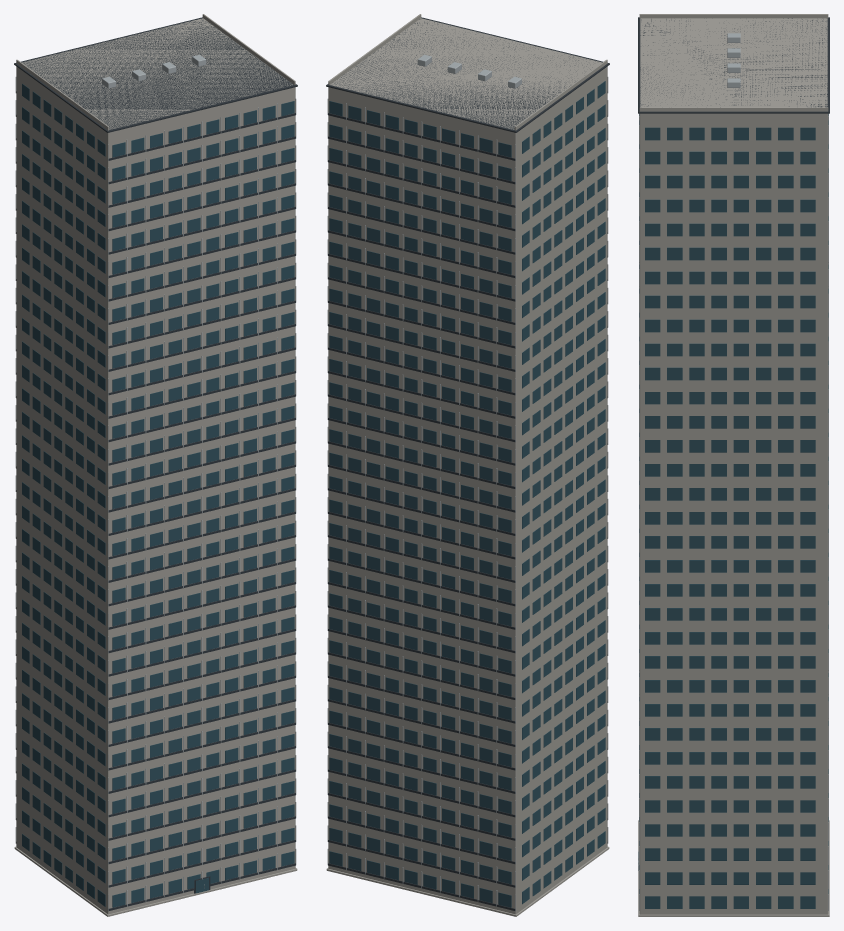
Rendered from SM_Tower.fbx.
The picture shows the model from 3 angles, left to right: view 1: azimuth 30°, elevation 25°; view 2: azimuth 150°, elevation 25°; view 3: azimuth 270°, elevation 25°; orthographic projection. The views are drawn at different scales.
Visible parts, largest first — view 1: SM_Tower; view 2: SM_Tower; view 3: SM_Tower.
Part boxes in pixels (x1,y1,x2,y2): SM_Tower: (14,14,297,916); SM_Tower: (326,14,609,916); SM_Tower: (638,14,829,916).
Size of the model in its own units: 3350 by 2850 by 13300.
